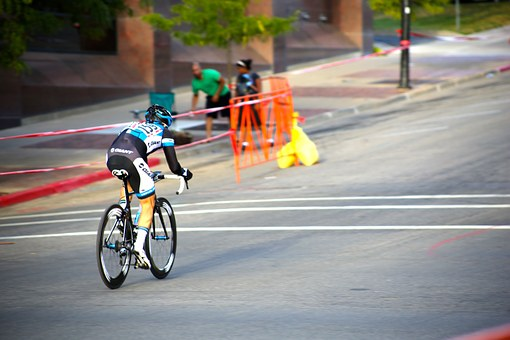bikerider: (79, 101, 203, 298)
